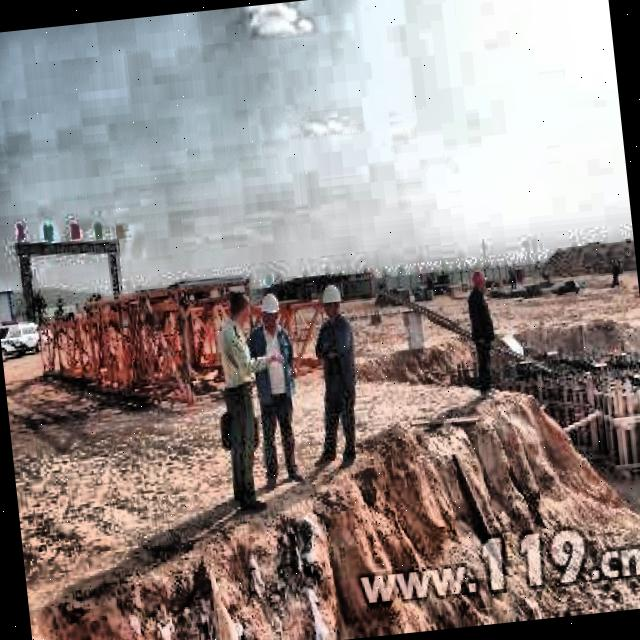helmet: (258, 292, 284, 331), (320, 282, 344, 318), (470, 266, 490, 295)
